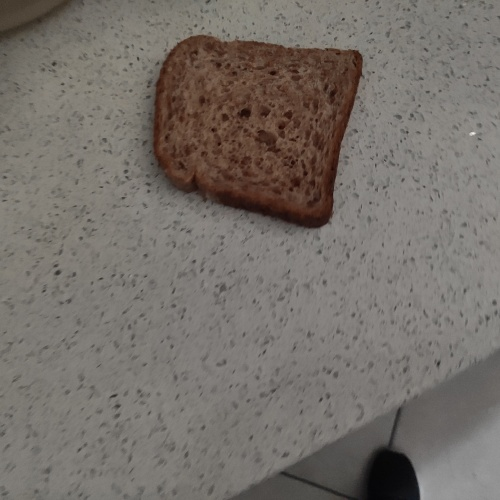pane: (141, 36, 368, 231)
